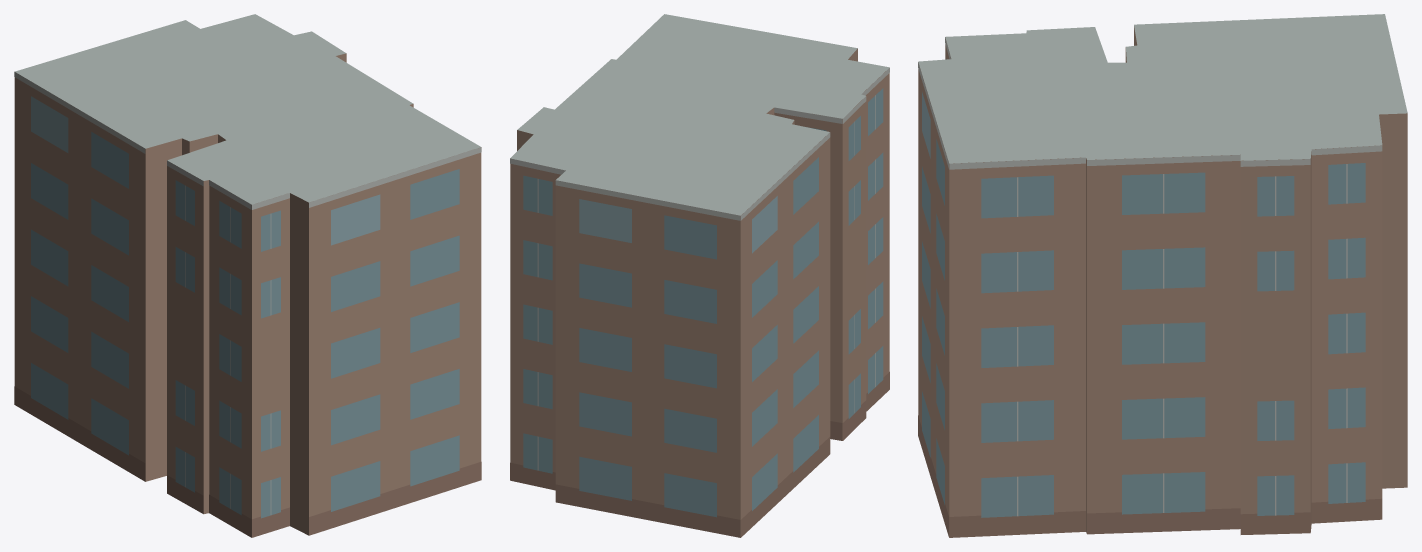
The model's file is survey-upis-32637195.glb.
The picture shows the model from 3 angles, left to right: view 1: azimuth 30°, elevation 25°; view 2: azimuth 150°, elevation 25°; view 3: azimuth 270°, elevation 25°; orthographic projection. The views are drawn at different scales.
Visible parts, largest first — view 1: survey-upis-32637195.tmp; view 2: survey-upis-32637195.tmp; view 3: survey-upis-32637195.tmp.
Boxes of the visible parts, x1,y1,x2,y2 form: survey-upis-32637195.tmp: [14, 14, 481, 537]; survey-upis-32637195.tmp: [510, 14, 889, 537]; survey-upis-32637195.tmp: [918, 14, 1407, 537].
Bounding box in the file's own units: 12.87 × 15 × 17.8.
